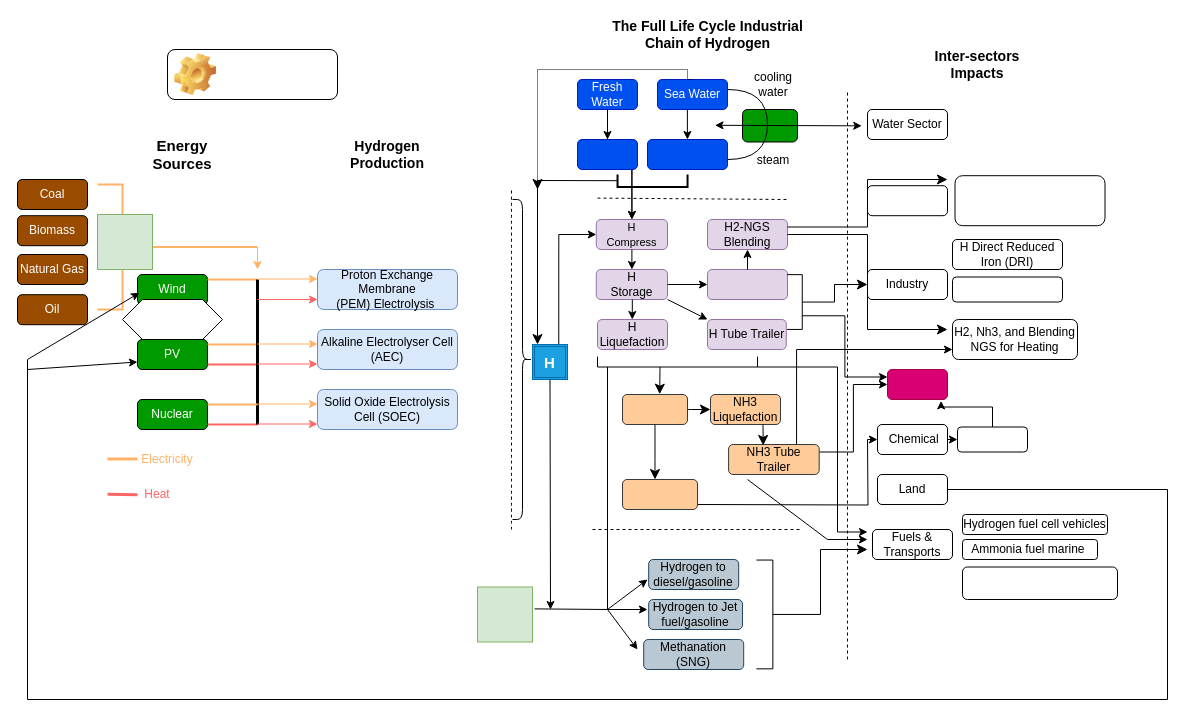
This 1186x718 diagram has some shape labels left out. Here are the shapes that lost their labels. From the top down, the centre of each, then its label:
the point at 252,74: Designed by Zhaojie
the point at 770,125: Nuclear Plant
the point at 607,154: Water Treatment
the point at 687,154: Desalination
the point at 907,200: Building
the point at 1029,200: Boilers, Resistive heaters, Heat pumps, Cooking, Cooling, Other uses
the point at 124,242: CCUS
the point at 747,284: H Pipeline
the point at 1007,289: DRI-EAF
the point at 172,319: BESS | Specified Demand Profile
the point at 917,384: Export
the point at 655,409: Ammonia synthesis
the point at 992,439: Synthetic N Fertiliser
the point at 660,494: Urea synthesis
the point at 1040,583: H synthetic fuels for road, marine and aviation
the point at 504,614: CCUS Bioenergy +CCUS
